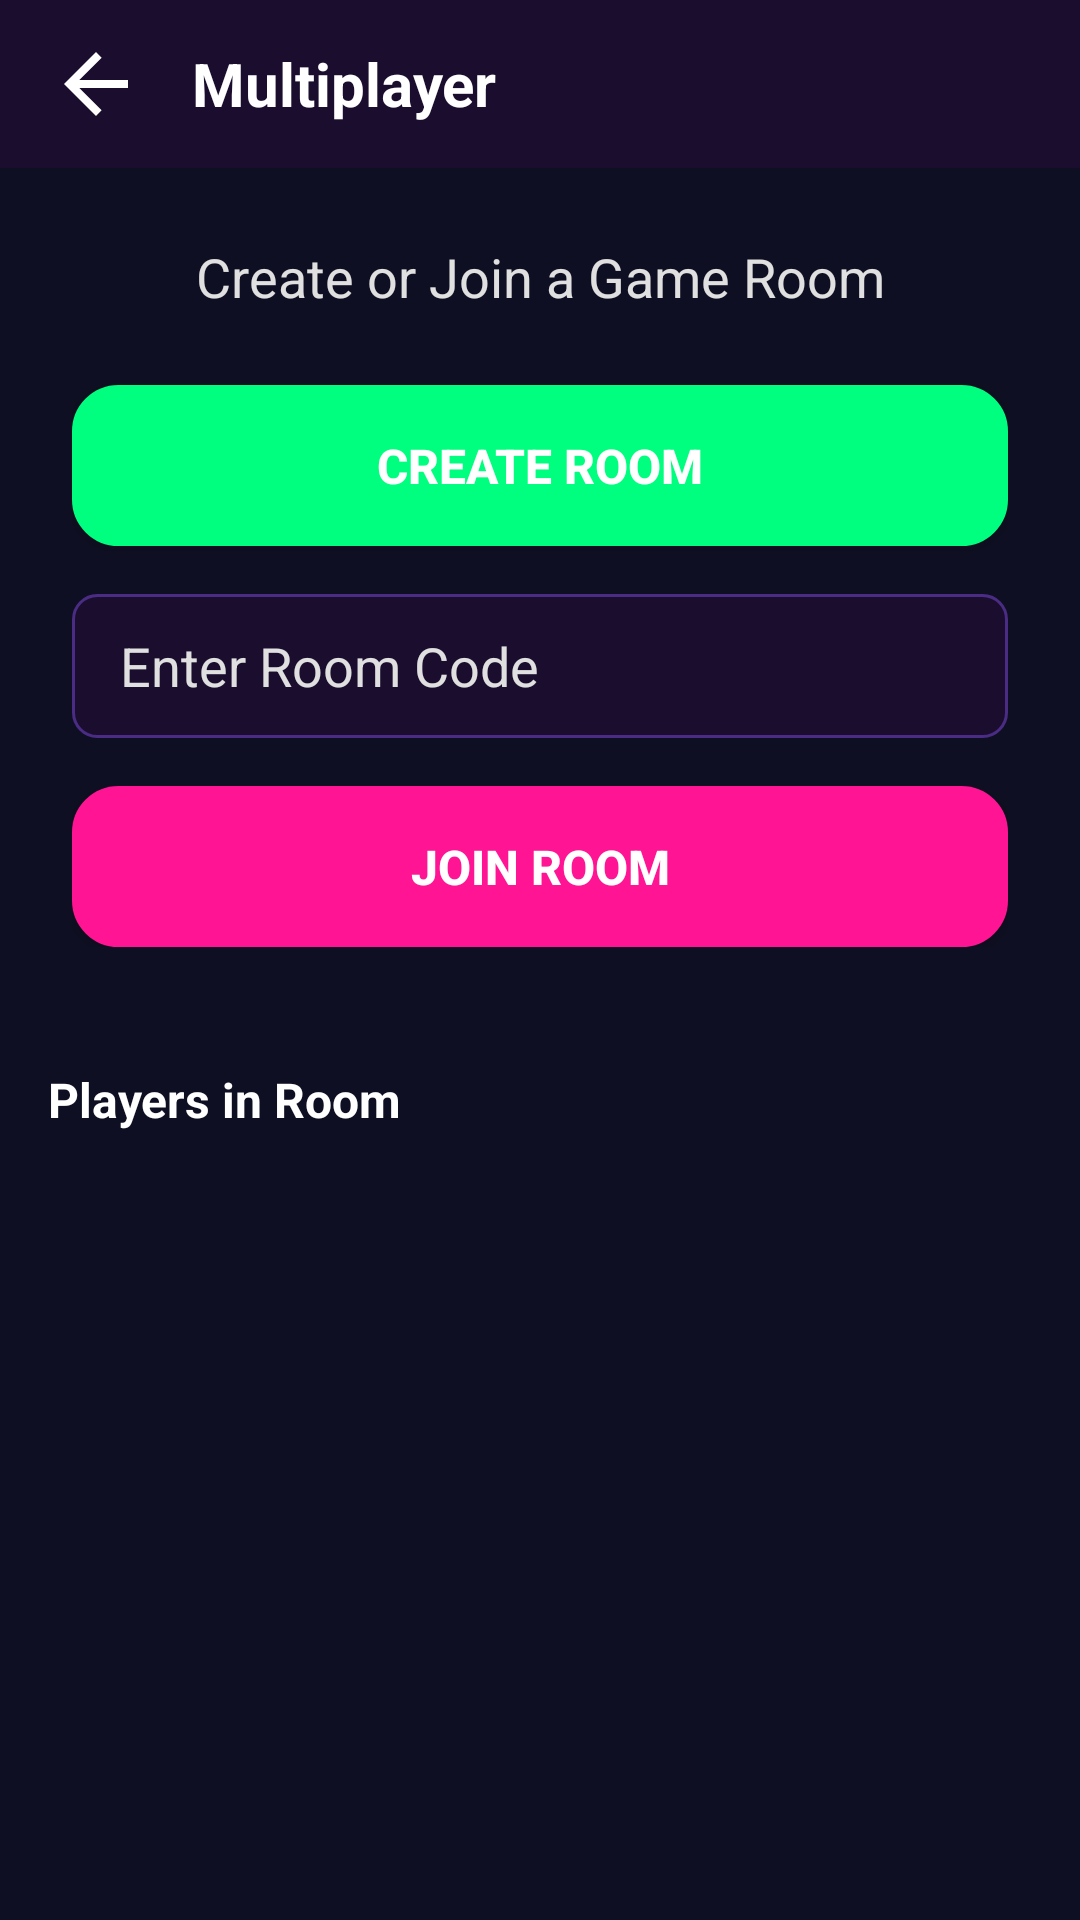

Named icons in this screenshot (1080 x 1920) and their bounding boxes, rect(x1, y1, x2, y2):
Back: rect(64, 52, 128, 116)
